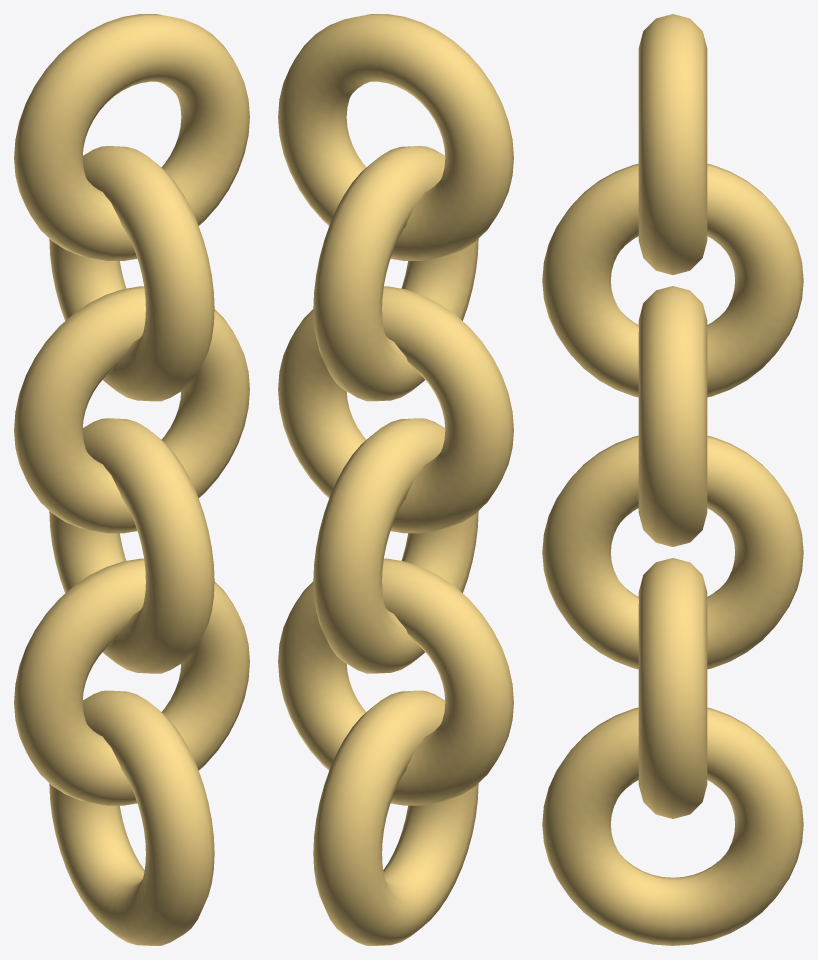
Rendered from sylas_chain.glb.
The picture shows the model from 3 angles, left to right: view 1: azimuth 30°, elevation 25°; view 2: azimuth 150°, elevation 25°; view 3: azimuth 270°, elevation 25°; orthographic projection.
Parts seen in each view (by area): view 1: sylas_chain; view 2: sylas_chain; view 3: sylas_chain.
Part boxes in pixels (left/top/right/bottom): sylas_chain: left=14, top=14, right=249, bottom=945; sylas_chain: left=278, top=14, right=513, bottom=945; sylas_chain: left=542, top=14, right=803, bottom=945.
Bounding box in the file's own units: 0.122 × 0.472 × 0.122.
